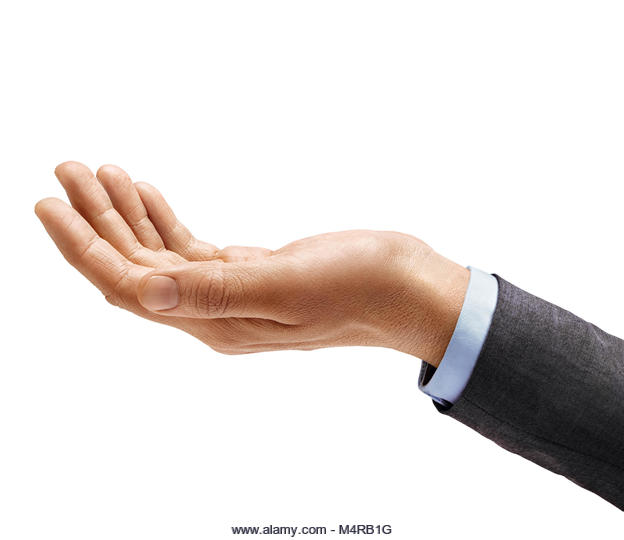non-diseased: (39, 141, 447, 377)
